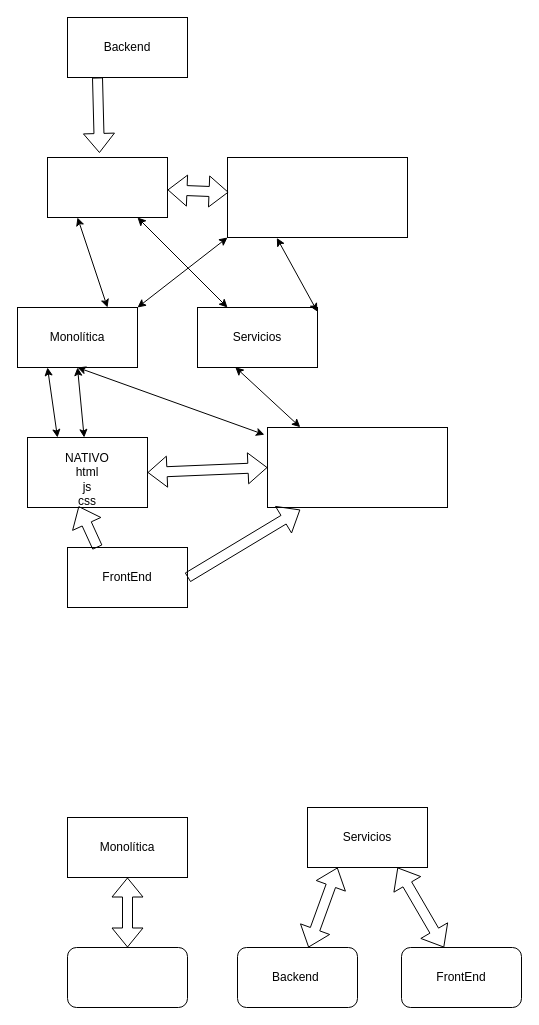
Image size: 539x1025. Some labels were removed from this diagram. Here are the shapes that lost their labels. From the top down, the centre of each, then its label:
At (107,187): "PHP Java * Python js".
At (317,197): "Framework PHP => laravel Java => Spring Boot* Python => django js => node".
At (357,467): "Framework react angular vue".
At (127,977): "Backend FrontEnd".
